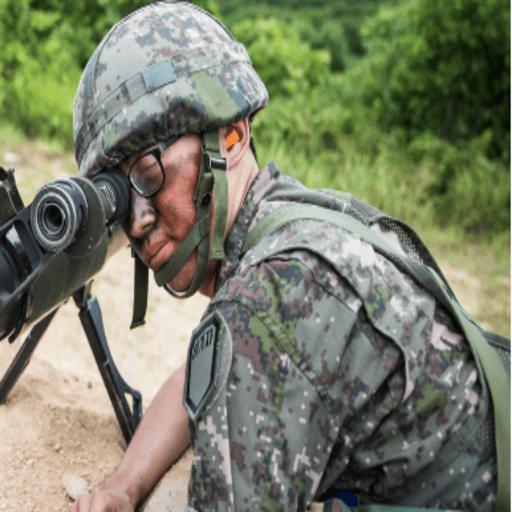korea army: (60, 0, 512, 506)
